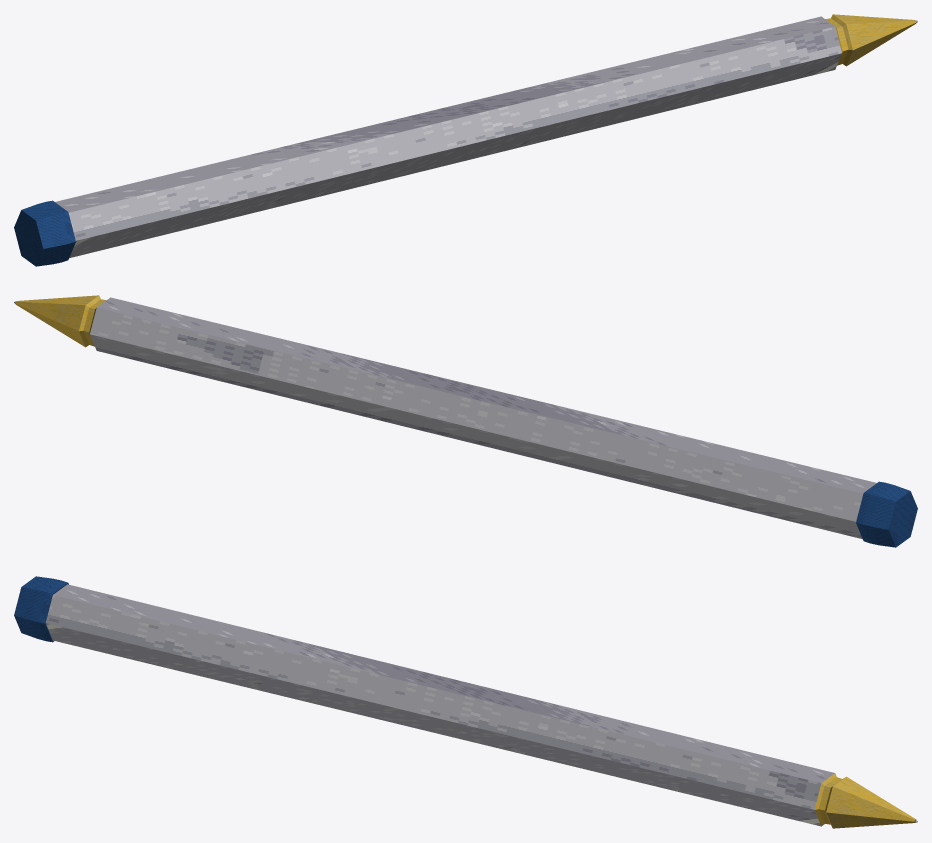
The model's file is Penna_2.fbx.
The picture shows the model from 3 angles, top to bottom: view 1: azimuth 30°, elevation 25°; view 2: azimuth 150°, elevation 25°; view 3: azimuth 330°, elevation 25°; orthographic projection.
Visible parts, largest first — view 1: Cylinder.001; view 2: Cylinder.001; view 3: Cylinder.001.
Part boxes in pixels (x1,y1,x2,y2): Cylinder.001: (14,14,917,266); Cylinder.001: (14,295,917,547); Cylinder.001: (14,576,917,828).
Bounding box in the file's own units: 0.0601 × 0.00318 × 0.00367.
Materials: 3 (3 with a texture image).
